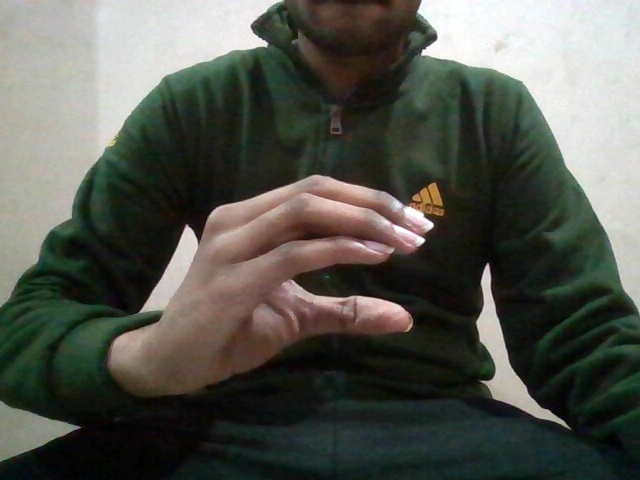C: (170, 172, 438, 387)
